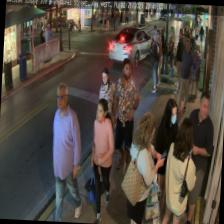person: (46, 81, 88, 222), (172, 91, 215, 224), (125, 110, 165, 224), (160, 115, 198, 224), (108, 57, 142, 176), (152, 96, 180, 220), (88, 98, 114, 221), (92, 66, 116, 171), (176, 38, 194, 111)
